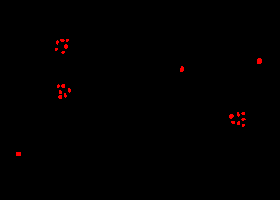Target: (257, 58, 262, 64), (229, 114, 234, 119), (180, 66, 184, 72), (64, 44, 68, 49), (16, 152, 21, 156), (61, 84, 65, 88), (58, 95, 62, 99), (60, 39, 65, 42), (56, 40, 59, 45), (68, 88, 71, 93), (64, 93, 67, 98), (237, 112, 240, 117), (241, 118, 246, 121), (61, 51, 65, 54), (57, 84, 60, 88), (59, 90, 62, 94), (241, 112, 245, 115), (231, 121, 235, 124), (237, 121, 240, 125), (66, 39, 69, 42), (55, 48, 58, 51), (242, 124, 245, 127)
